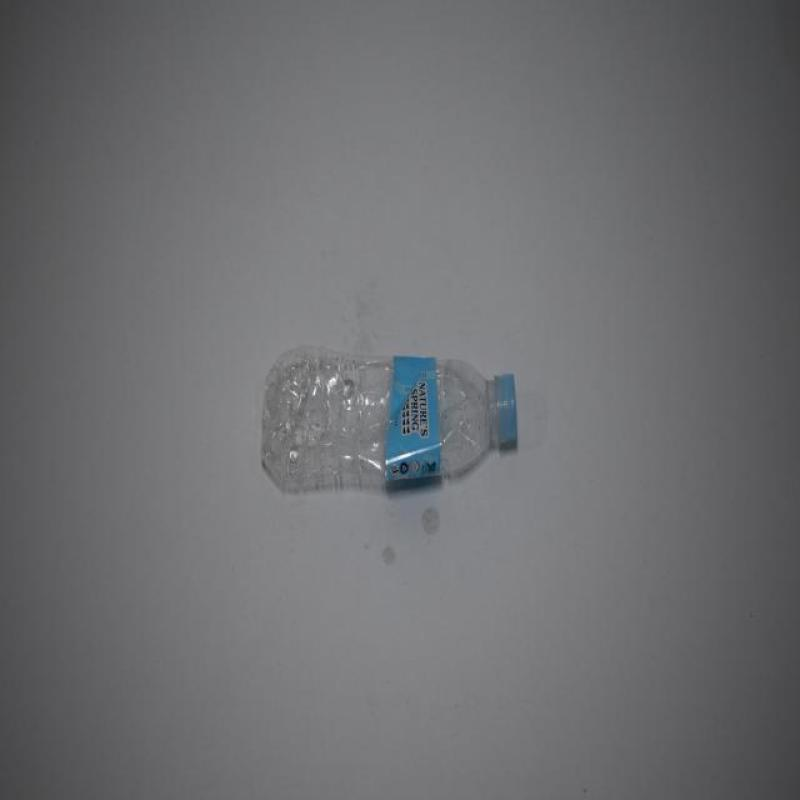botella: (262, 350, 518, 490)
